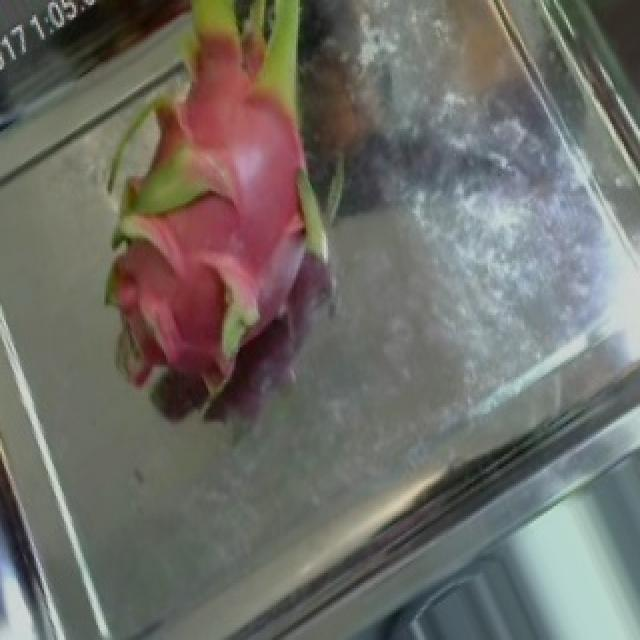fruit: (2, 2, 424, 436)
